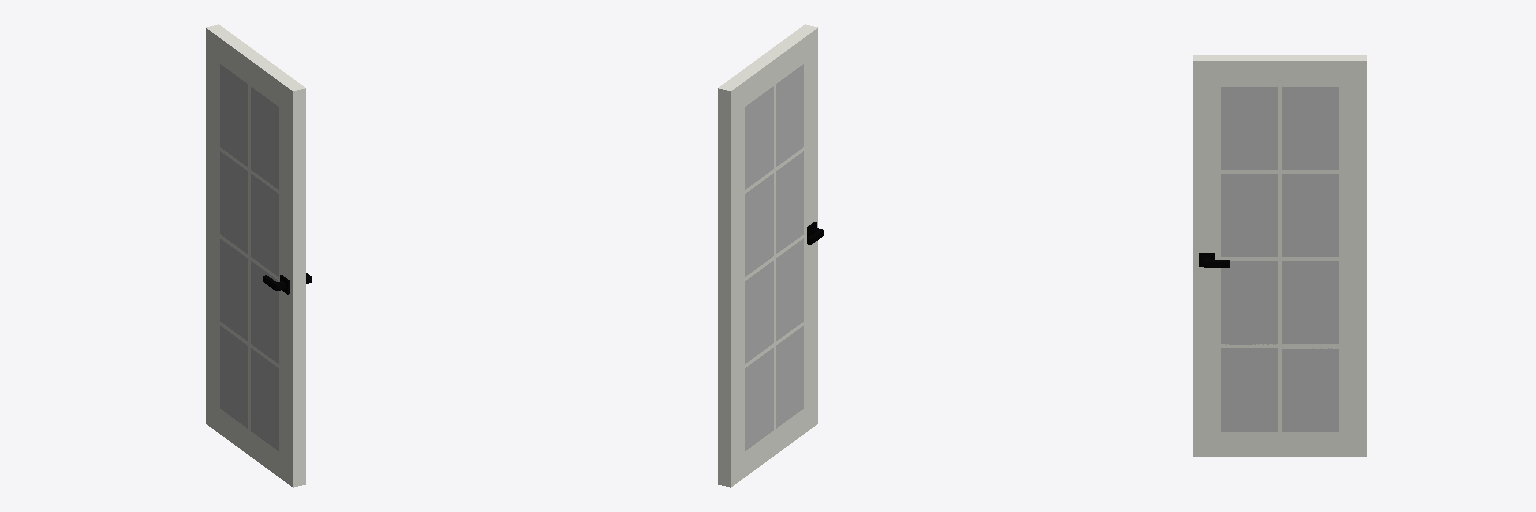
The model's file is door802_lactic.obj.
3 renders of one model, left to right at view 1: azimuth 30°, elevation 25°; view 2: azimuth 150°, elevation 25°; view 3: azimuth 270°, elevation 25°, orthographic.
Parts seen in each view (by area): view 1: Cube; view 2: Cube; view 3: Cube.
Boxes of the visible parts, x1,y1,x2,y2 form: Cube: [206, 24, 311, 487]; Cube: [718, 24, 823, 487]; Cube: [1193, 55, 1366, 456].
Bounding box in the file's own units: 0.1899 × 2 × 0.7997.